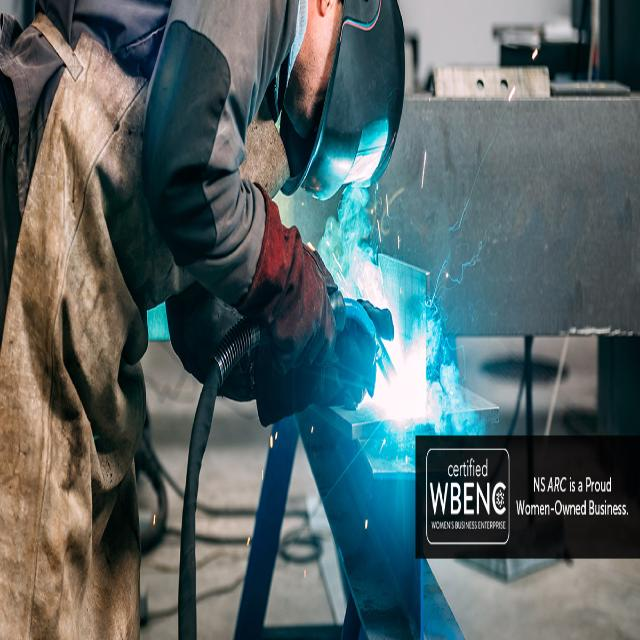welding: (388, 365, 408, 420)
